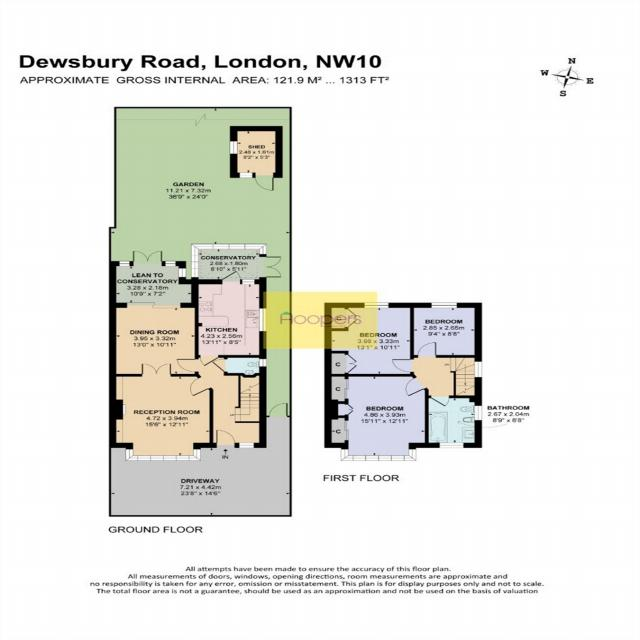DOOR: (404, 376, 427, 397), (189, 376, 212, 397), (215, 429, 236, 448), (175, 358, 199, 373), (417, 342, 438, 358), (391, 359, 414, 373), (268, 402, 288, 417), (221, 270, 241, 284), (430, 395, 450, 408), (198, 355, 219, 367), (211, 359, 228, 372)
DOUBLE DOOR: (259, 256, 282, 278), (132, 250, 163, 266), (141, 362, 171, 377)
ROOM: (108, 363, 214, 462), (324, 374, 429, 461), (191, 270, 267, 367), (108, 302, 199, 377), (324, 302, 414, 377), (109, 250, 199, 308), (410, 302, 482, 358)
SLIDING DOOR: (125, 302, 182, 309)
WINDOW: (125, 448, 202, 462), (340, 448, 417, 461), (258, 308, 267, 332), (438, 442, 465, 449), (363, 302, 390, 309), (431, 302, 458, 308), (473, 405, 483, 421), (474, 361, 483, 378), (238, 442, 255, 448), (178, 268, 187, 278), (242, 279, 255, 285), (165, 260, 176, 267), (259, 359, 267, 367), (119, 261, 130, 266)
